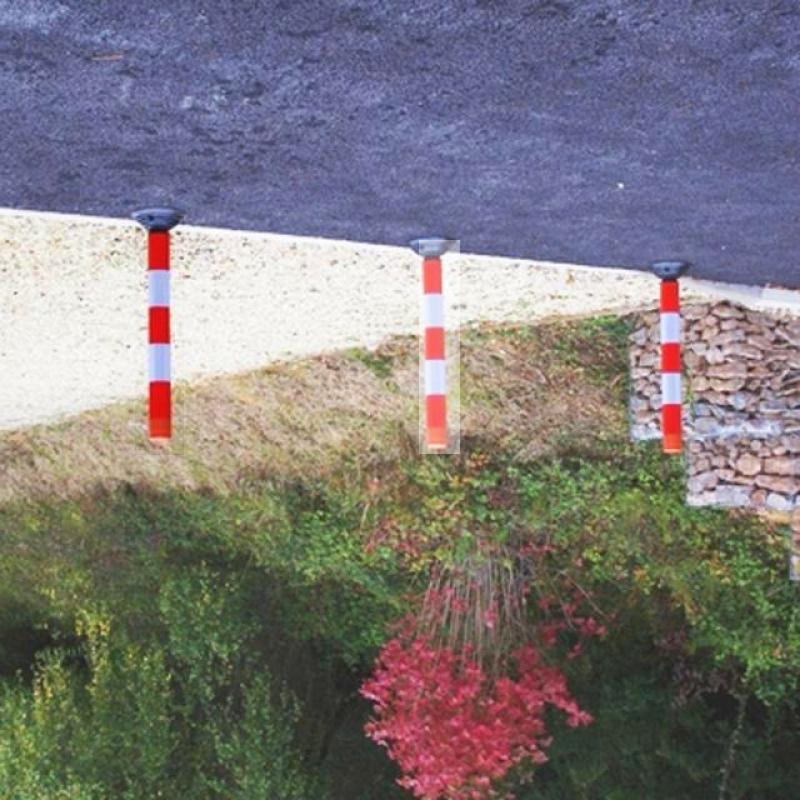pillar: (135, 216, 184, 455), (419, 240, 460, 454), (652, 252, 692, 468)
